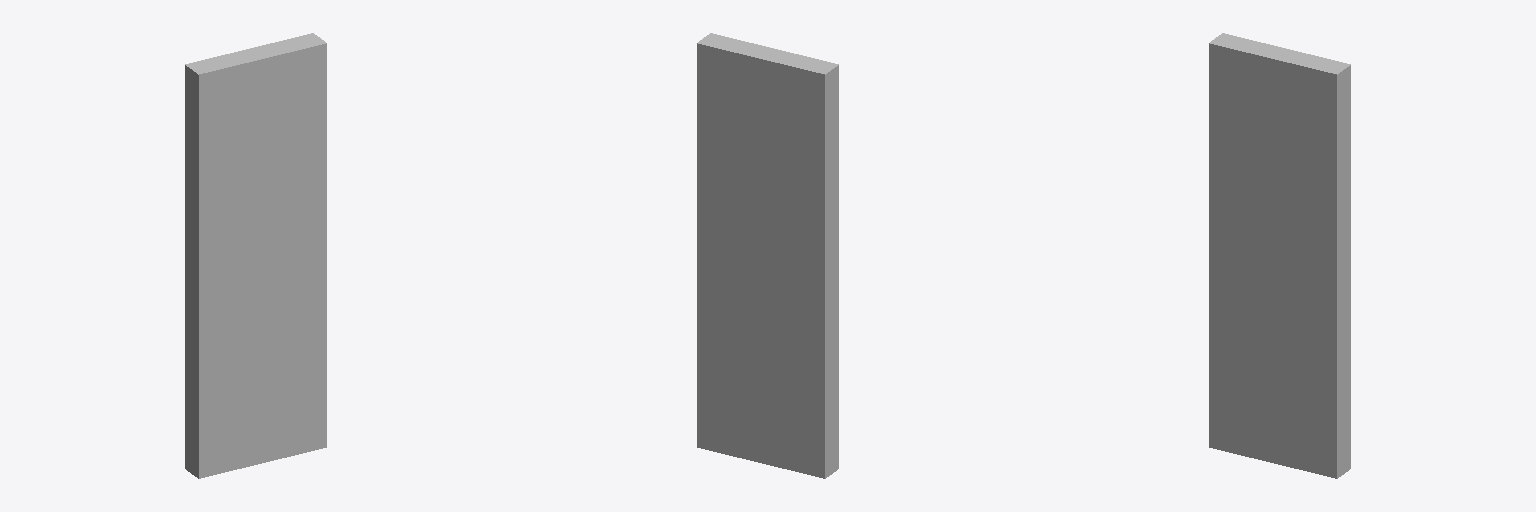
File: hcmwdoorgrand.obj
The picture shows the model from 3 angles: view 1: azimuth 30°, elevation 25°; view 2: azimuth 150°, elevation 25°; view 3: azimuth 330°, elevation 25°; orthographic projection.
Parts seen in each view (by area): view 1: hm_grand; view 2: hm_grand; view 3: hm_grand.
Part boxes in pixels (x1,y1,x2,y2): hm_grand: (185,33,326,478); hm_grand: (697,33,838,478); hm_grand: (1209,33,1350,478).
Bounding box in the file's own units: 1 × 3 × 0.188.